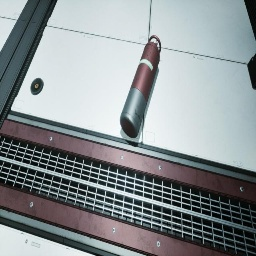NitrogenTank ,: (120, 35, 161, 138)
